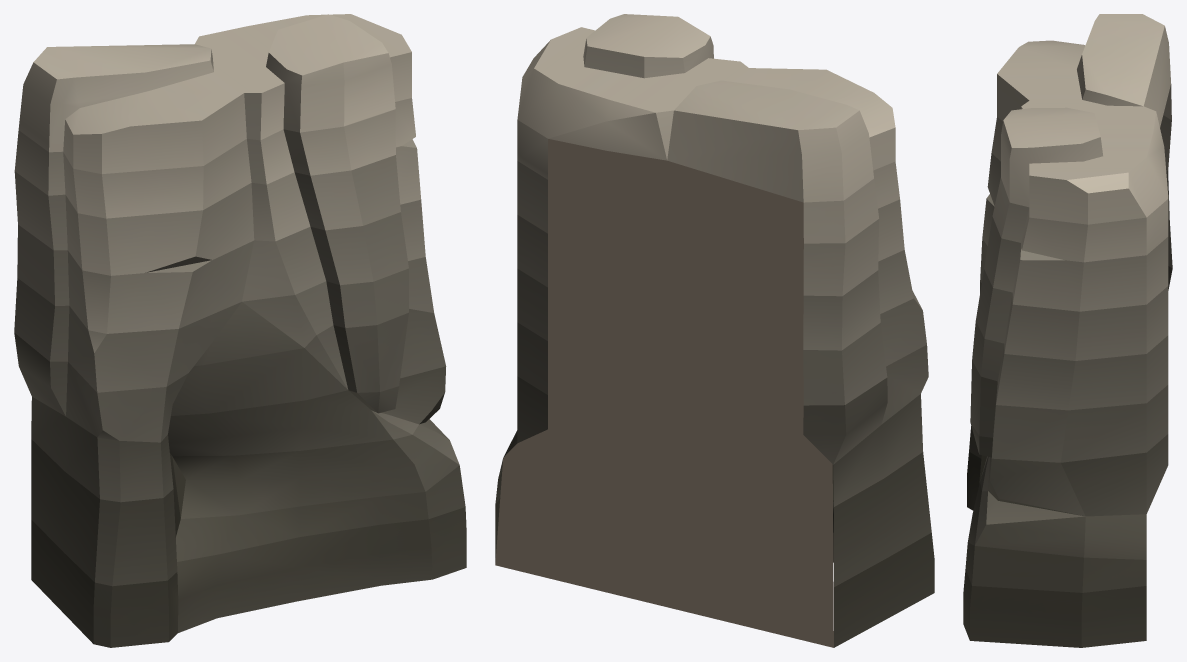
Rendered from Canyon_Wall_2A.fbx.
3 renders of one model, left to right at view 1: azimuth 30°, elevation 25°; view 2: azimuth 150°, elevation 25°; view 3: azimuth 270°, elevation 25°, orthographic. The views are drawn at different scales.
Visible parts, largest first — view 1: Canyon_Wall_2A; view 2: Canyon_Wall_2A; view 3: Canyon_Wall_2A.
Part boxes in pixels (box(x1,y1,x2,y2)): Canyon_Wall_2A: box(14, 14, 466, 647); Canyon_Wall_2A: box(495, 14, 934, 647); Canyon_Wall_2A: box(963, 14, 1172, 647).
Size of the model in its own units: 2362 by 3132 by 1250.
